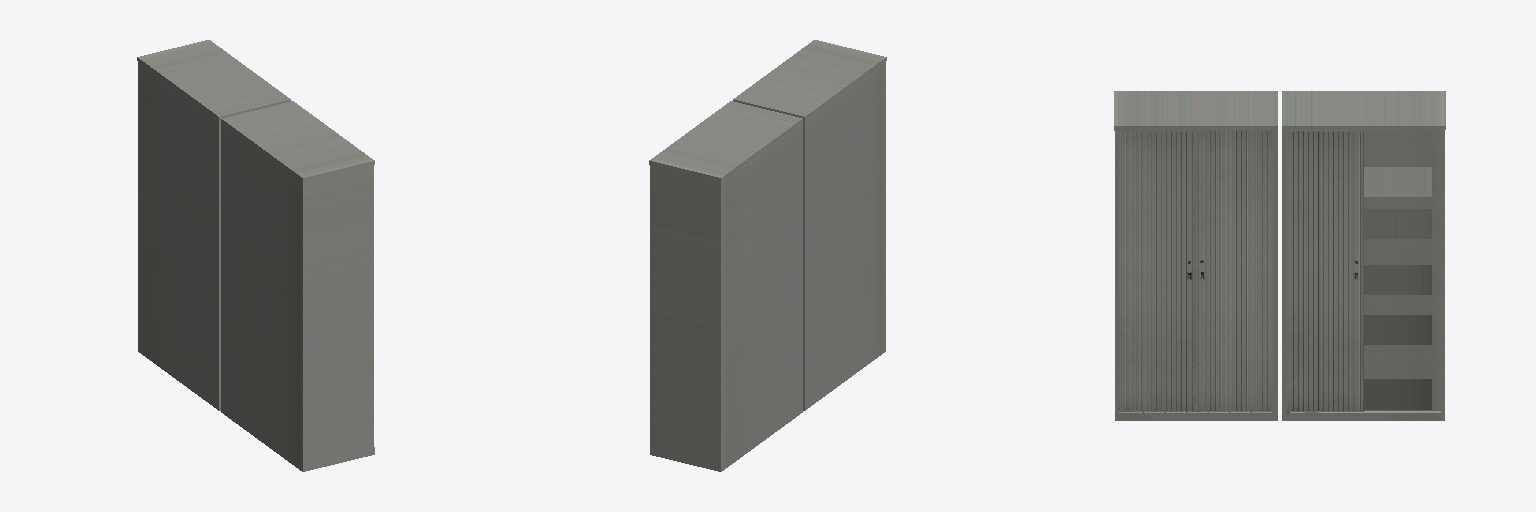
3 renders of one model, left to right at view 1: azimuth 30°, elevation 25°; view 2: azimuth 150°, elevation 25°; view 3: azimuth 270°, elevation 25°, orthographic.
Parts seen in each view (by area): view 1: S_ClstOfcA_0_001; view 2: S_ClstOfcA_0_001; view 3: S_ClstOfcA_0_001.
Boxes of the visible parts, <box> form: S_ClstOfcA_0_001: <box>137,40,374,471</box>; S_ClstOfcA_0_001: <box>649,40,886,471</box>; S_ClstOfcA_0_001: <box>1114,91,1445,420</box>.
Size of the model in its own units: 1.2 by 4.7 by 4.79.
4 materials, 4 textured.